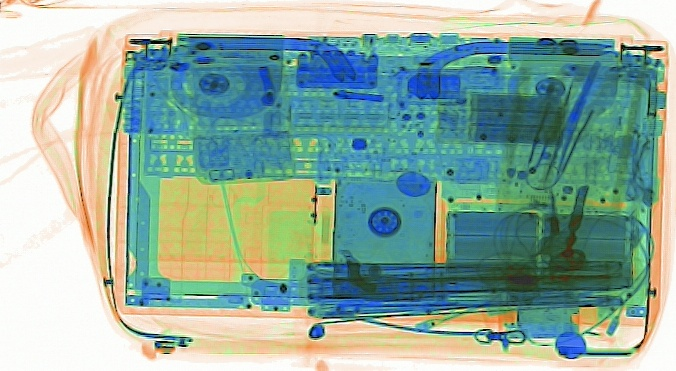powerbank: (436, 86, 566, 145)
